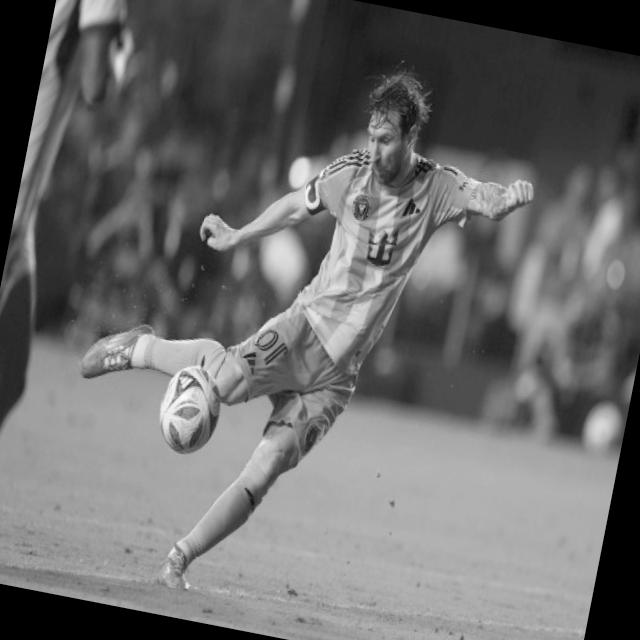football: (158, 367, 223, 457)
